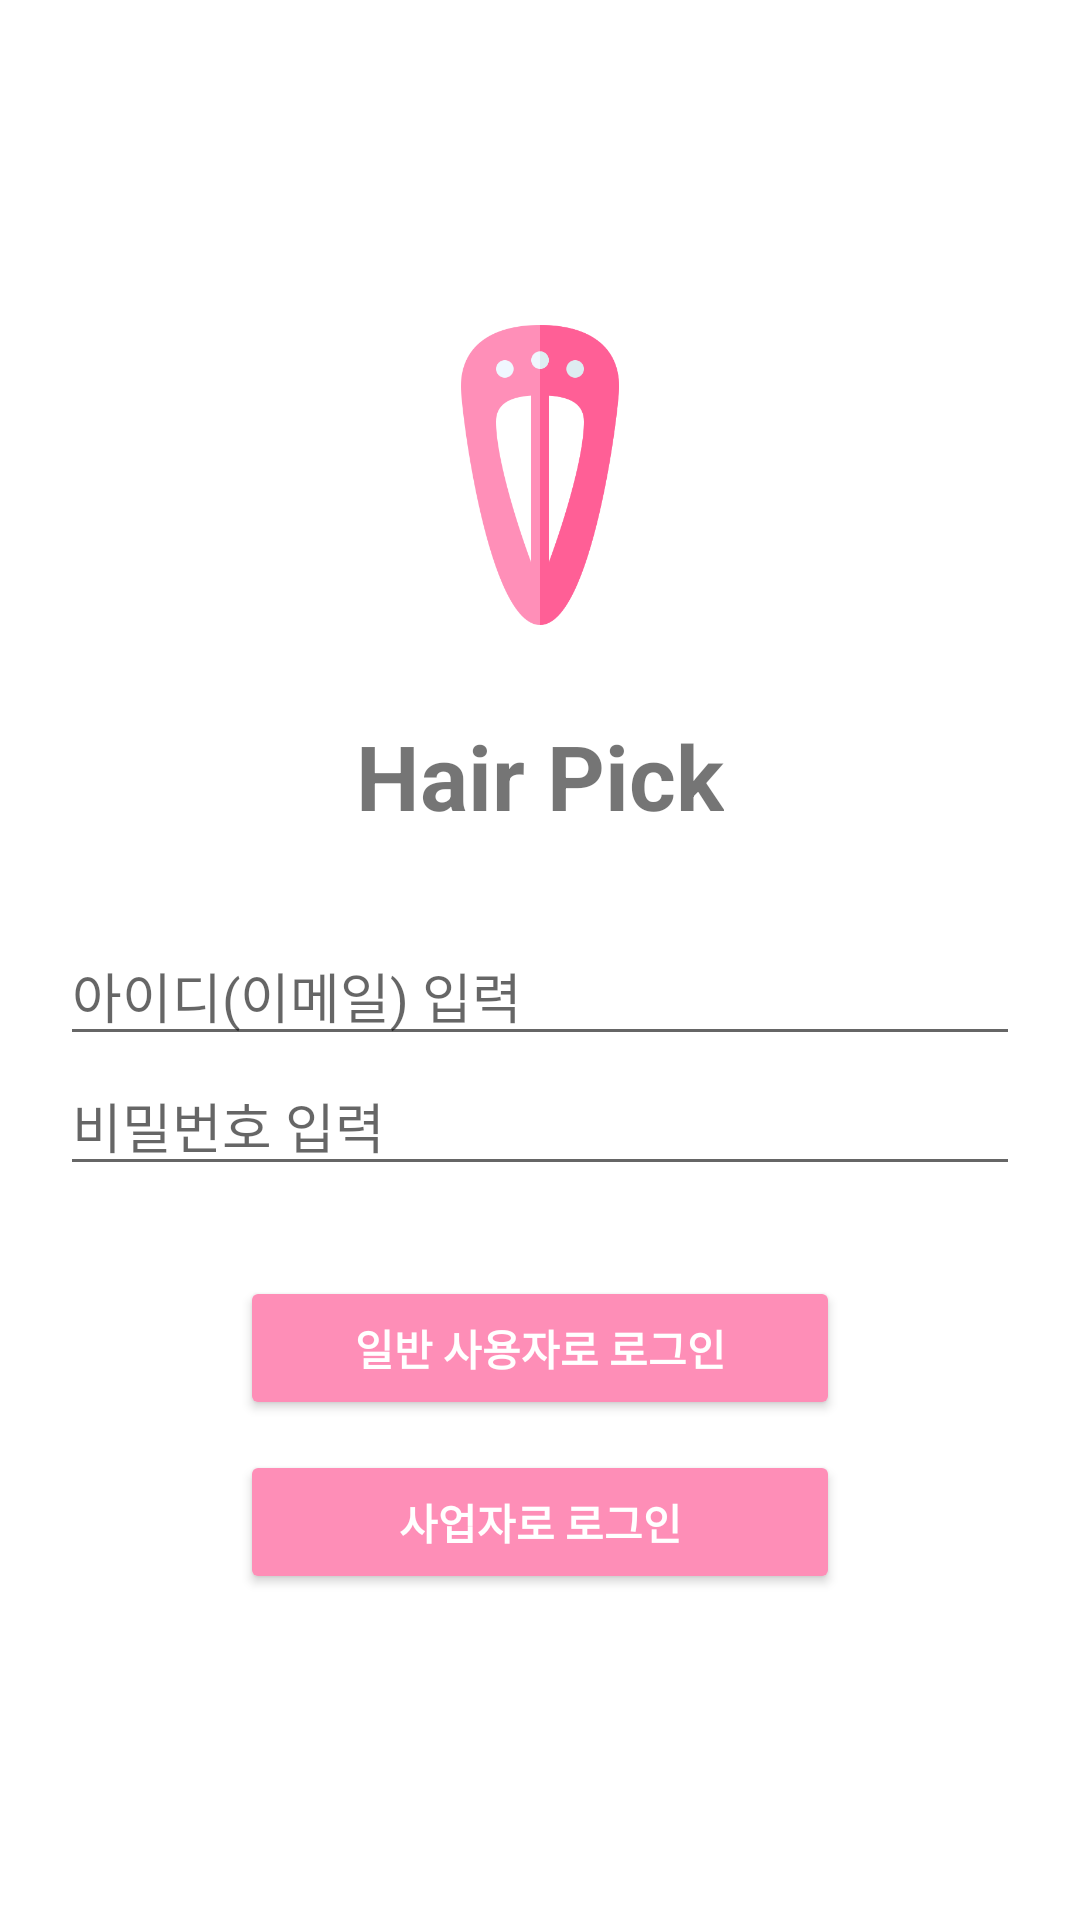

Icon click points for this 1080 x 1920 phone screenshot, format point (x, y):
hairclip: point (540, 475)
